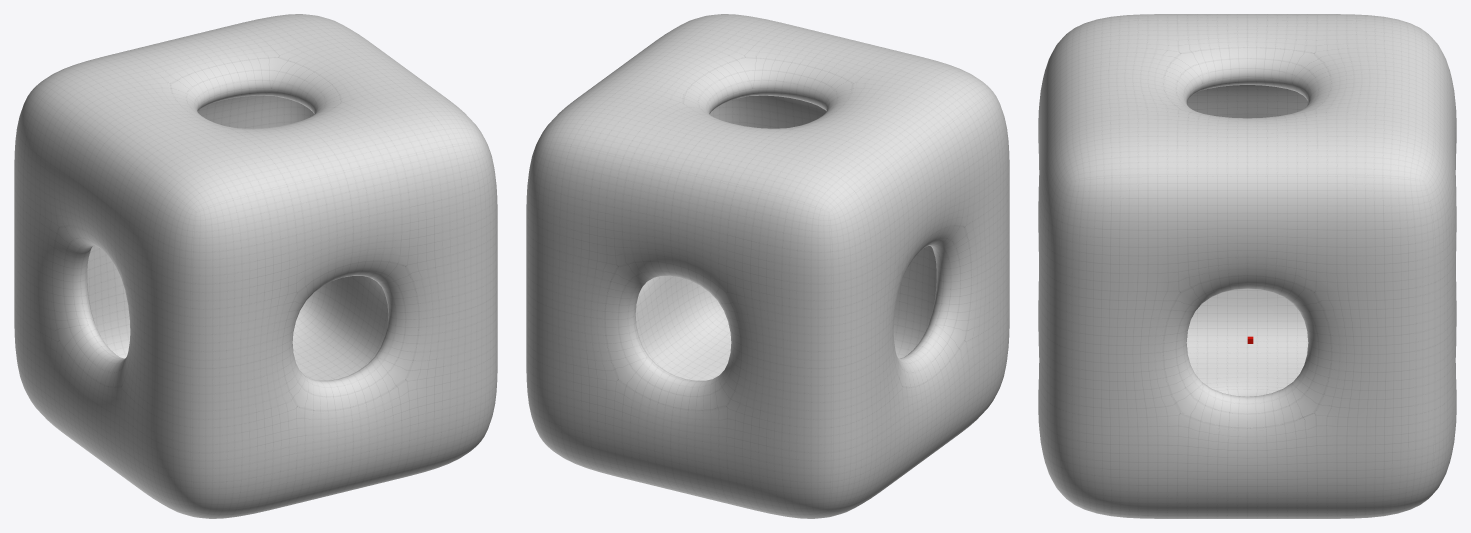
File: test-lvl2.glb
3 views of the same model, side by side, from view 1: azimuth 30°, elevation 25°; view 2: azimuth 150°, elevation 25°; view 3: azimuth 270°, elevation 25° (orthographic). The views are drawn at different scales.
Visible parts, largest first — view 1: Cube; view 2: Cube; view 3: Cube.
Part boxes in pixels (x1,y1,x2,y2): Cube: (14,14,497,518); Cube: (526,14,1009,518); Cube: (1038,14,1456,518).
Size of the model in its own units: 84.94 by 84.94 by 84.94.
Materials: 2 (1 with a texture image).
